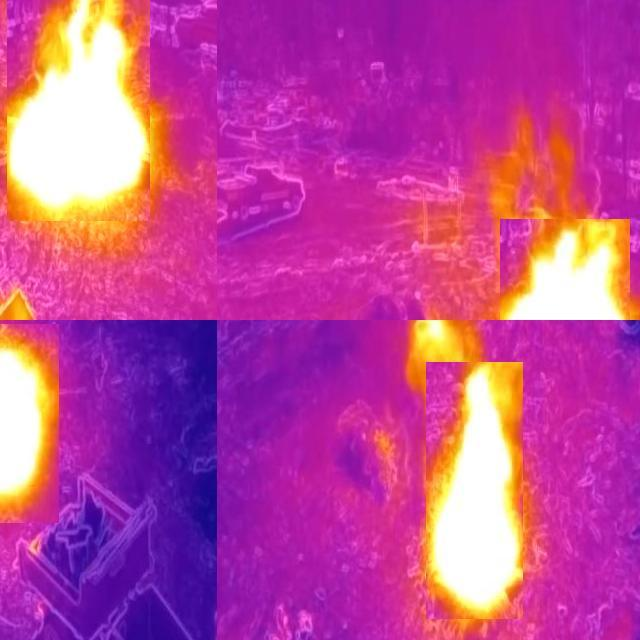fire: (8, 1, 151, 222), (427, 363, 524, 620), (501, 220, 631, 321), (1, 325, 60, 524)
